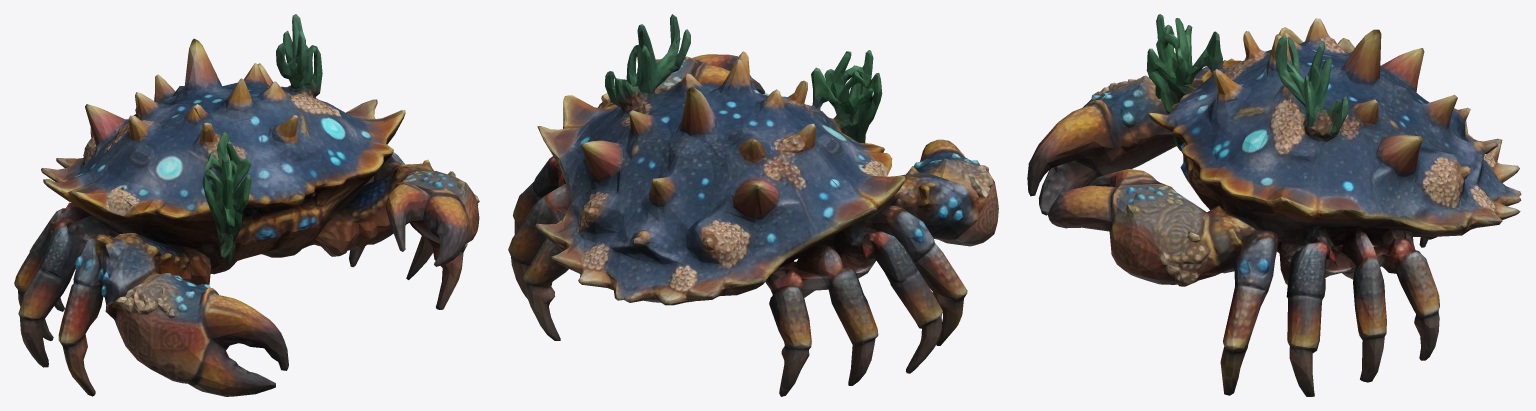
Rendered from abyssalCrab.glb.
3 views of the same model, side by side, from view 1: azimuth 30°, elevation 25°; view 2: azimuth 150°, elevation 25°; view 3: azimuth 270°, elevation 25° (orthographic). The views are drawn at different scales.
Visible parts, largest first — view 1: world; view 2: world; view 3: world.
Part boxes in pixels (<box>): world: <box>14,14,479,396</box>; world: <box>508,14,998,396</box>; world: <box>1027,14,1521,396</box>.
Bounding box in the file's own units: 1 × 0.6539 × 0.9661.
Materials: 1 (1 with a texture image).
